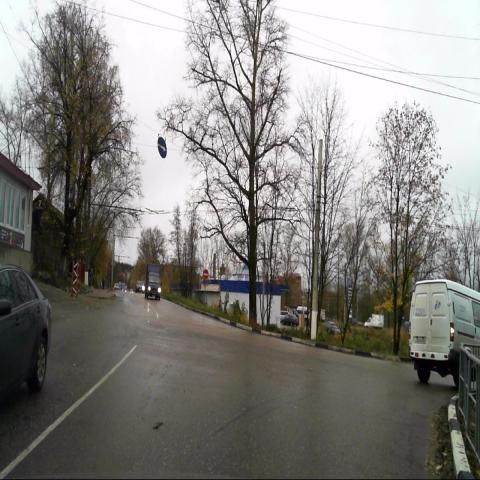4_1_2_1: (156, 137, 167, 159)
